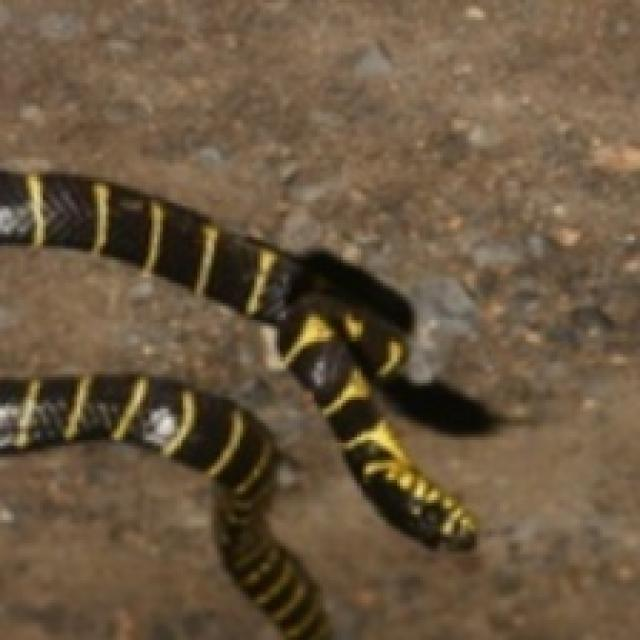mangrove cat snake: (0, 171, 474, 637)
